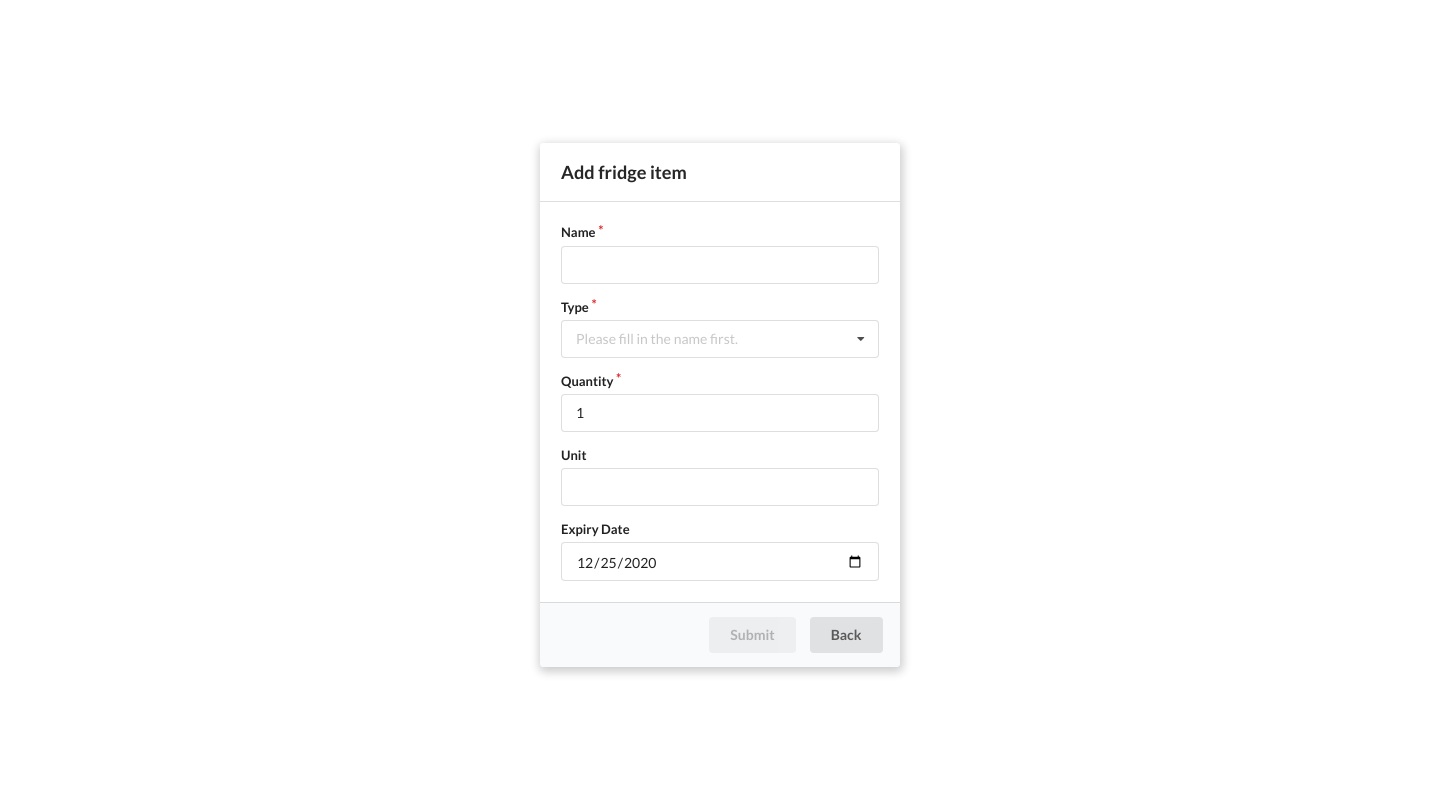
Scenario: <FoodCreate /> › should set state properly on quantity input
Replace the text in the number field labelled "Quantity" with "TEST_QUANTITY" at (720, 413), box [561,394,879,432]
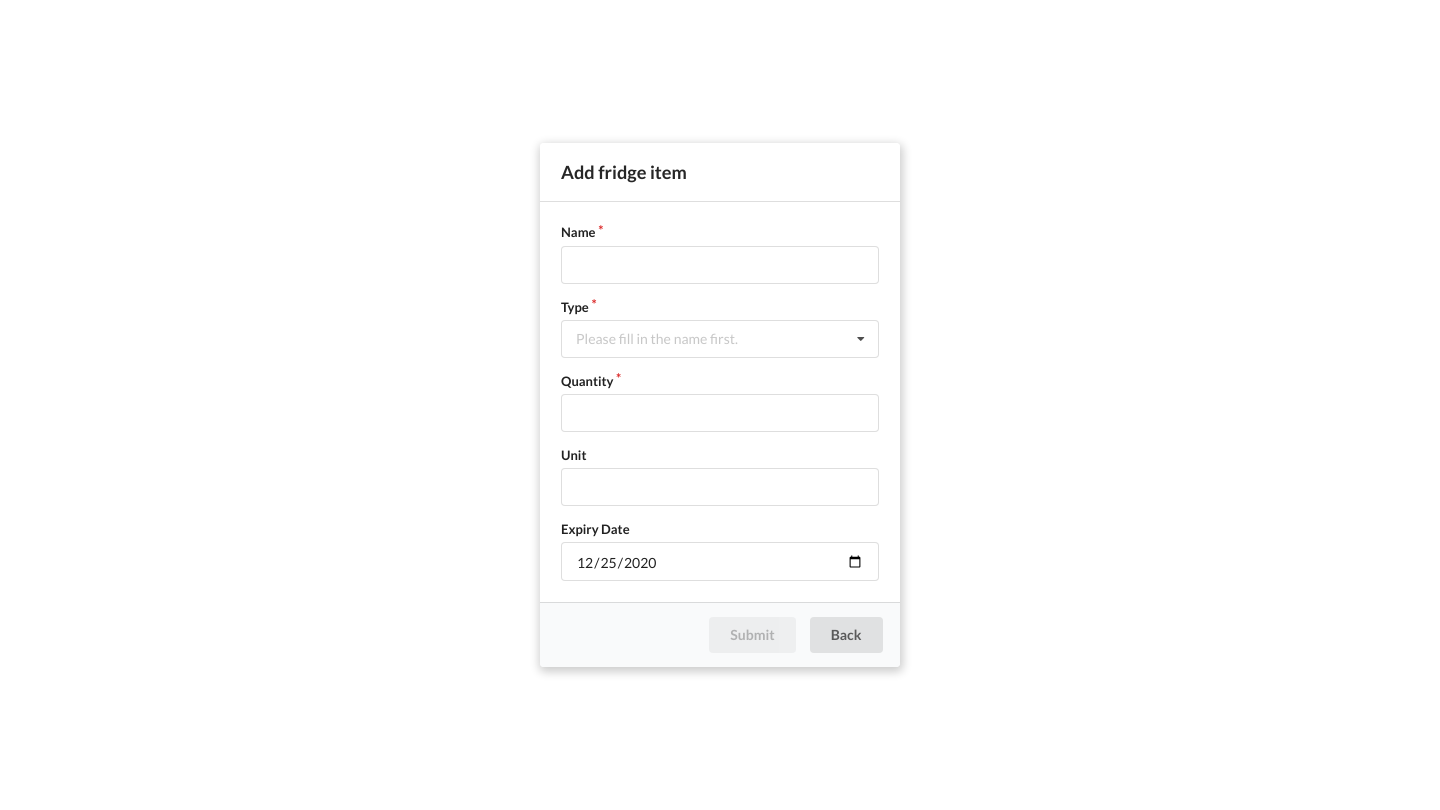
Check: the number field labelled "Quantity" holds "TEST_QUANTITY", box [561,394,879,432]
